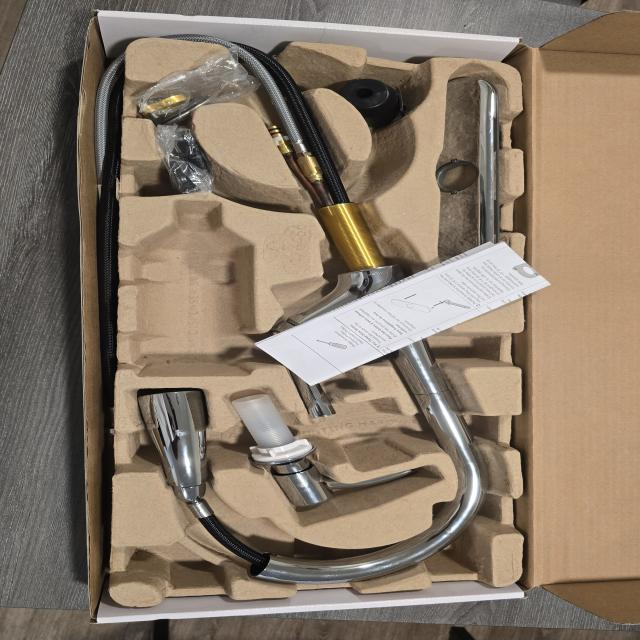1o: (137, 53, 487, 587)
2: (229, 394, 417, 510)
3m: (136, 201, 254, 374)
4: (432, 76, 495, 270)
5: (344, 78, 407, 128)
6: (133, 52, 262, 122)
7: (157, 125, 215, 194)
8: (254, 241, 552, 387)
